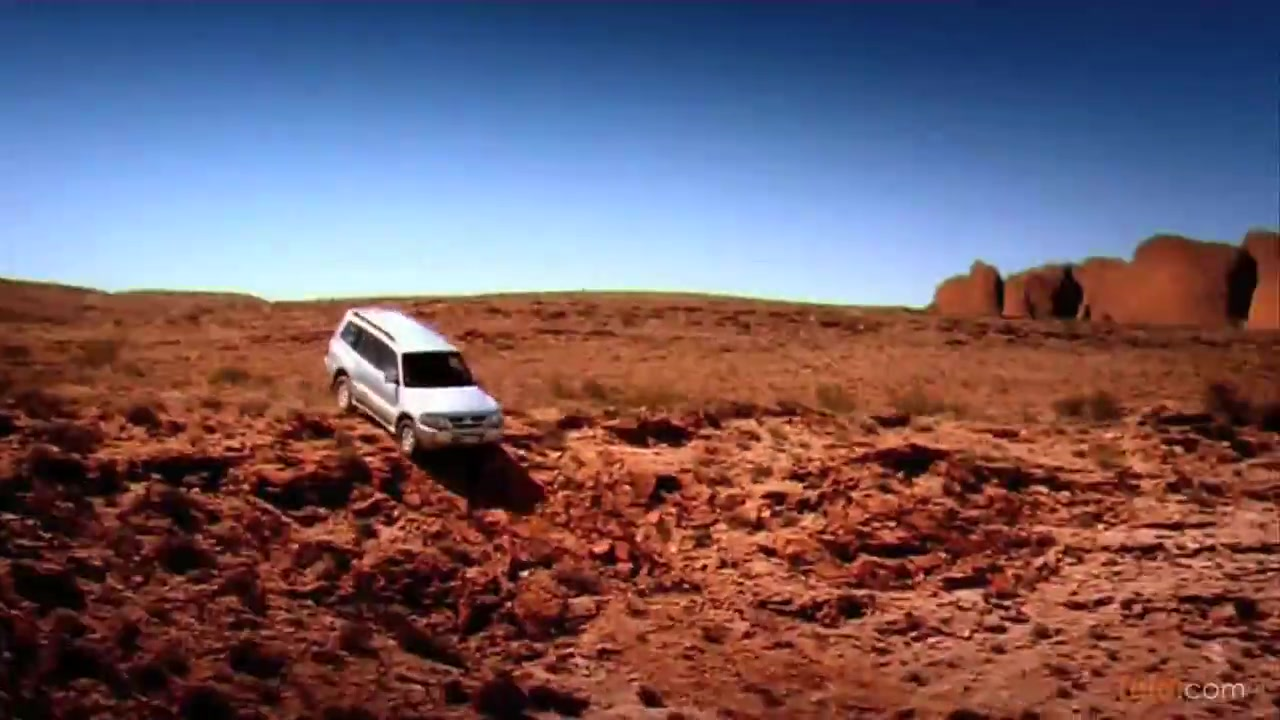car: (322, 298, 507, 453)
